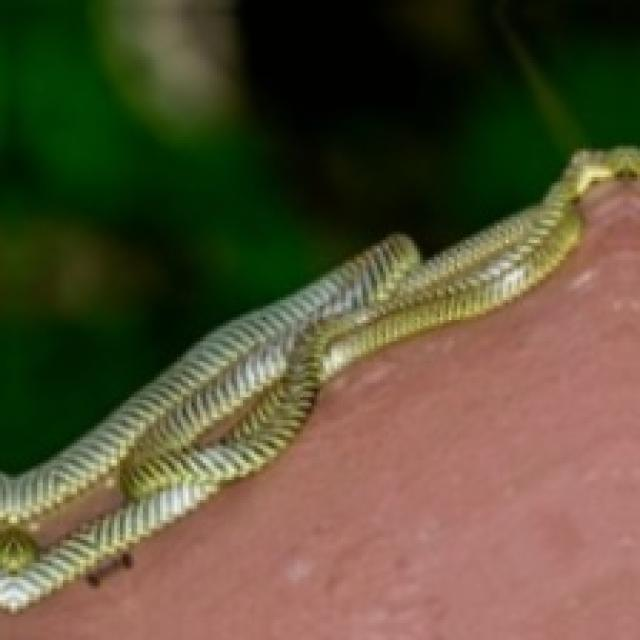paradise tree snake: (0, 149, 637, 609), (297, 423, 637, 637), (337, 346, 411, 400)
